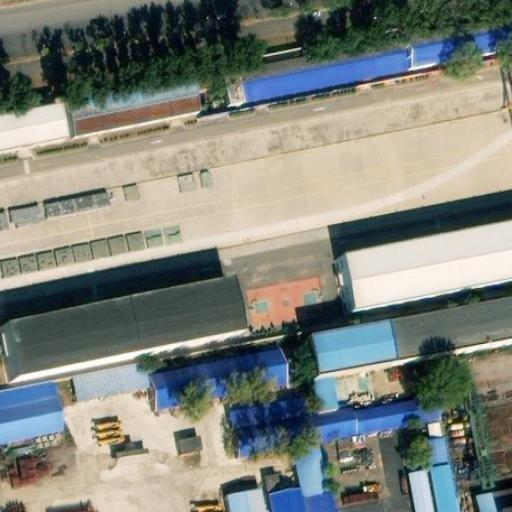building: (0, 285, 236, 381), (309, 293, 512, 376), (336, 220, 512, 314), (238, 37, 409, 105), (154, 347, 290, 411), (67, 75, 206, 135), (238, 406, 359, 458), (402, 16, 512, 73), (235, 373, 339, 428), (271, 444, 334, 512), (0, 383, 61, 444), (74, 363, 157, 403), (353, 394, 420, 436), (416, 398, 451, 467), (428, 463, 460, 512), (404, 467, 437, 512), (471, 484, 512, 512), (337, 486, 376, 505), (230, 492, 264, 512), (175, 430, 203, 452)
